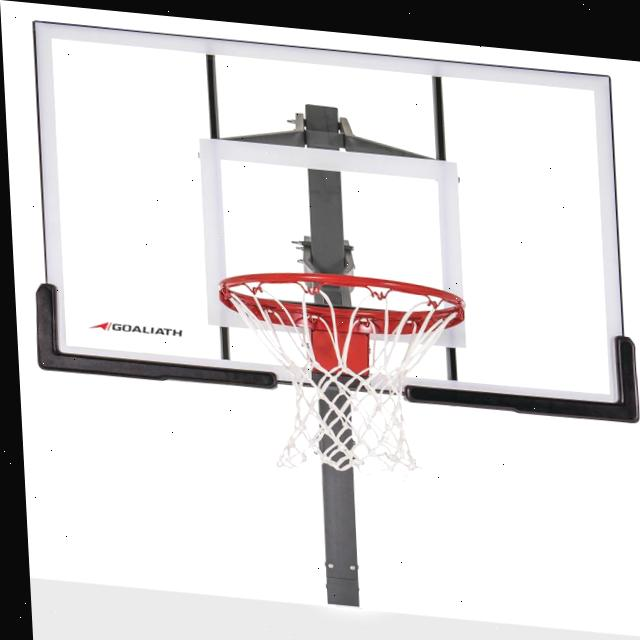hoop: (218, 262, 475, 485)
